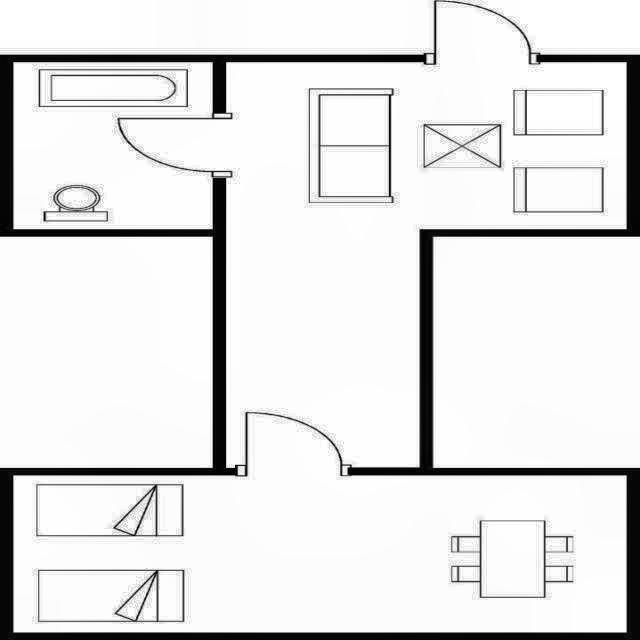room: (225, 62, 626, 468), (15, 475, 627, 632), (14, 62, 213, 229)
